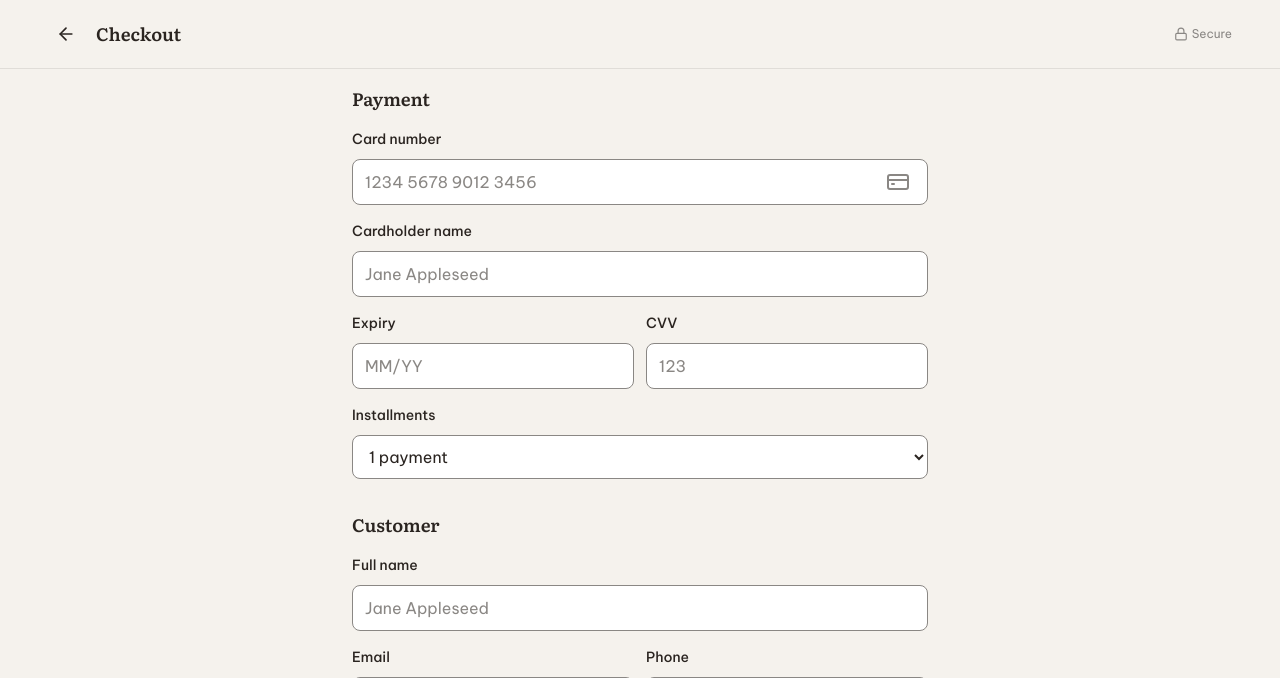
Test: CheckoutDetailsPage › formats the card number, expiry, and cvv as the user types
The image size is (1280, 678).
In the field labelled "Card number": (640, 182) [352,159,928,205], type "4242424242424242"
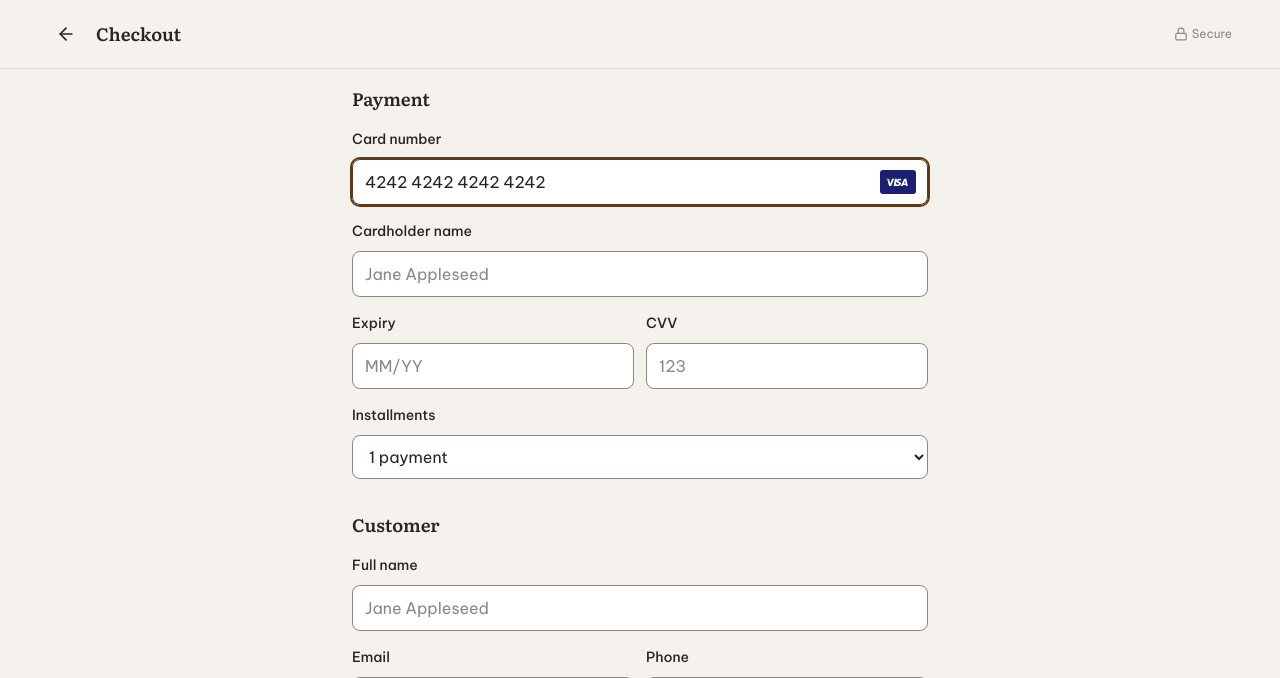
expect the field labelled "Card number" holds "4242 4242 4242 4242": met, box [352,159,928,205]
In the field labelled "Expiry": (493, 366) [352,343,634,389], type "1229"
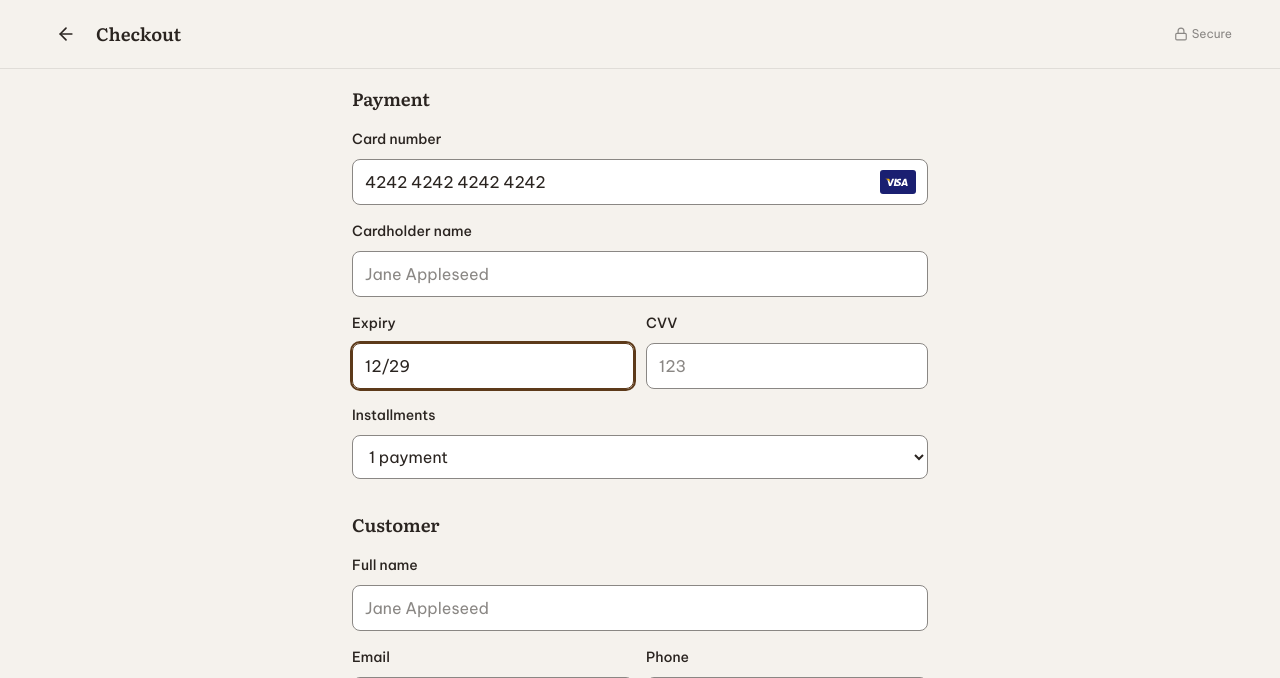
expect the field labelled "Expiry" holds "12/29": met, box [352,343,634,389]
In the field labelled "CVV": (787, 366) [646,343,928,389], type "12a3"
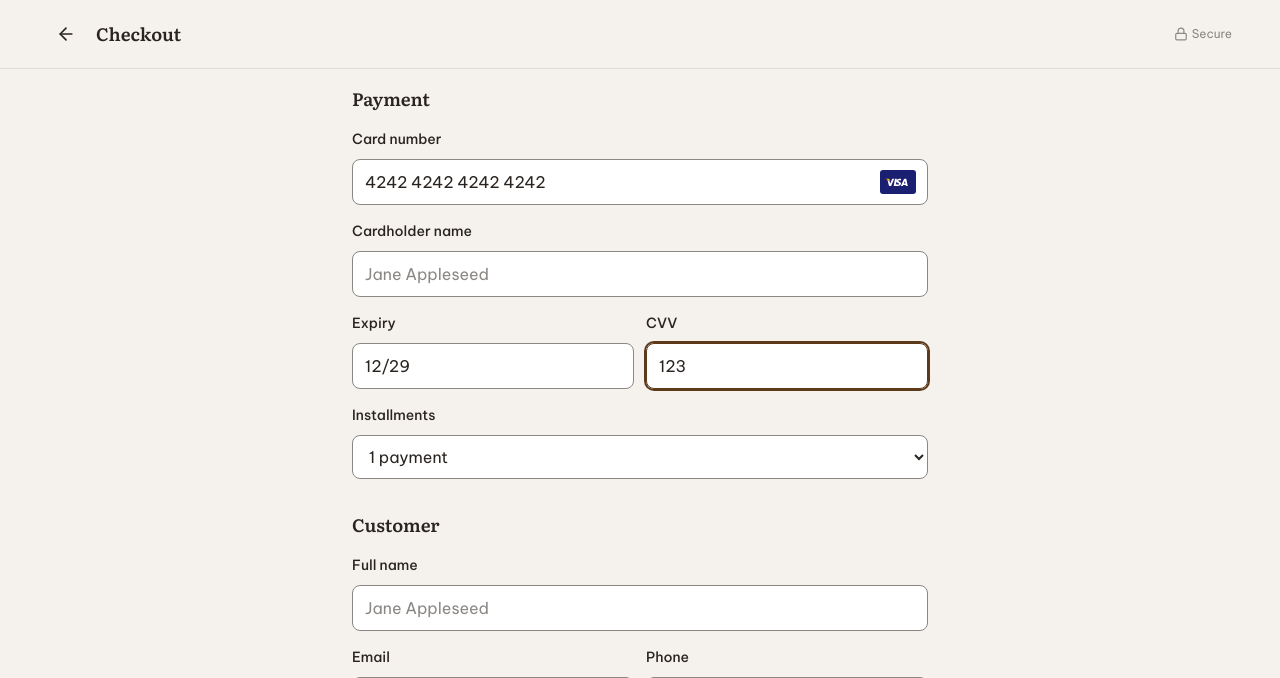
expect the field labelled "CVV" holds "123": met, box [646,343,928,389]
